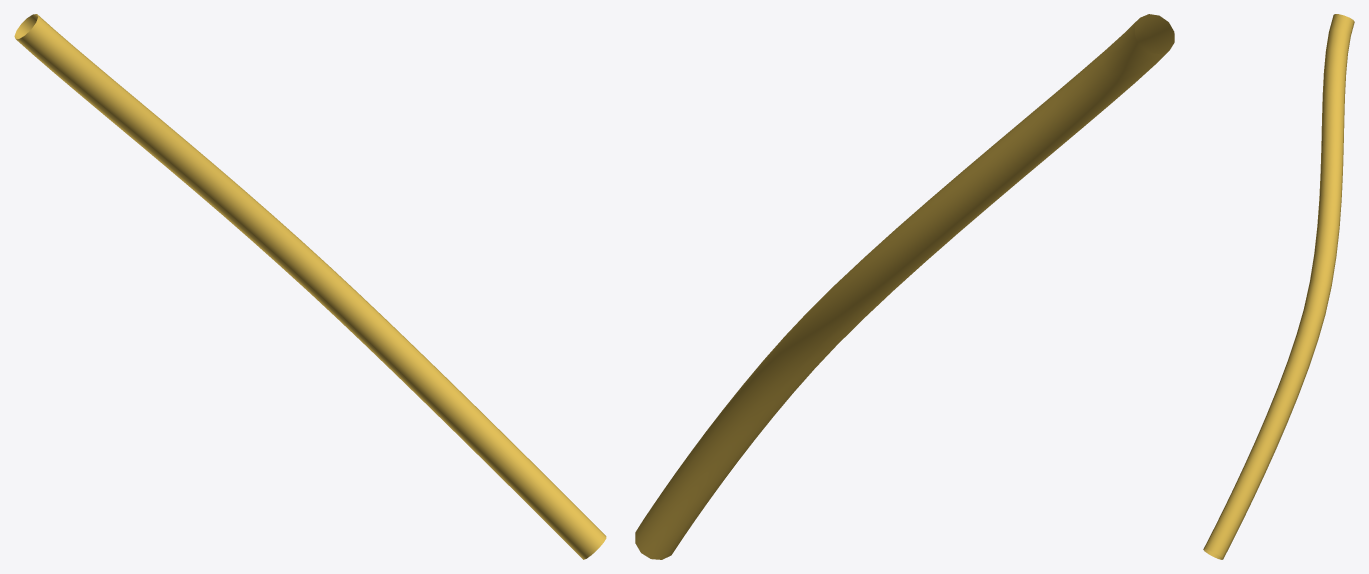
File: Anterior_division_inferior_trunk_brachial_plexus_left.glb
3 renders of one model, left to right at view 1: azimuth 30°, elevation 25°; view 2: azimuth 150°, elevation 25°; view 3: azimuth 270°, elevation 25°, orthographic. The views are drawn at different scales.
Visible parts, largest first — view 1: Anterior_division_of_inferior_trunk_of_brachial_plexus.l_Bez; view 2: Anterior_division_of_inferior_trunk_of_brachial_plexus.l_Bez; view 3: Anterior_division_of_inferior_trunk_of_brachial_plexus.l_Bez.
Part boxes in pixels (x1,y1,x2,y2): Anterior_division_of_inferior_trunk_of_brachial_plexus.l_Bez: (14,14,606,559); Anterior_division_of_inferior_trunk_of_brachial_plexus.l_Bez: (635,14,1174,559); Anterior_division_of_inferior_trunk_of_brachial_plexus.l_Bez: (1203,14,1354,559).
Bounding box in the file's own units: 0.0172 × 0.0195 × 0.00676.
